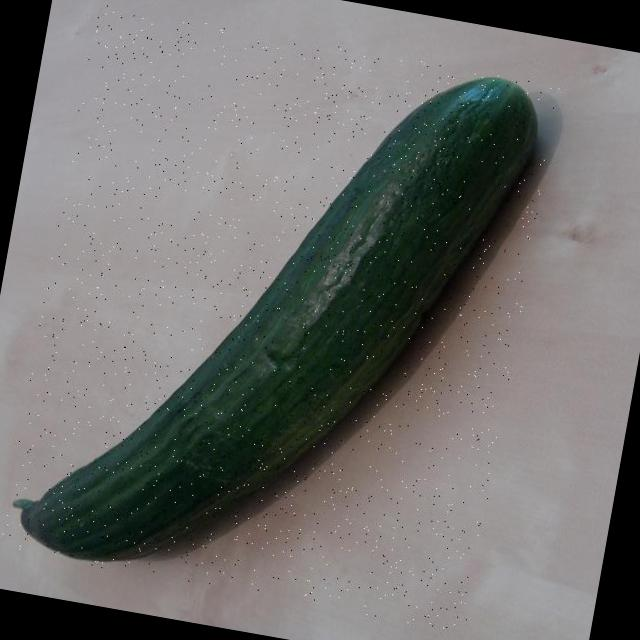Cucumber: (0, 0, 549, 636)
